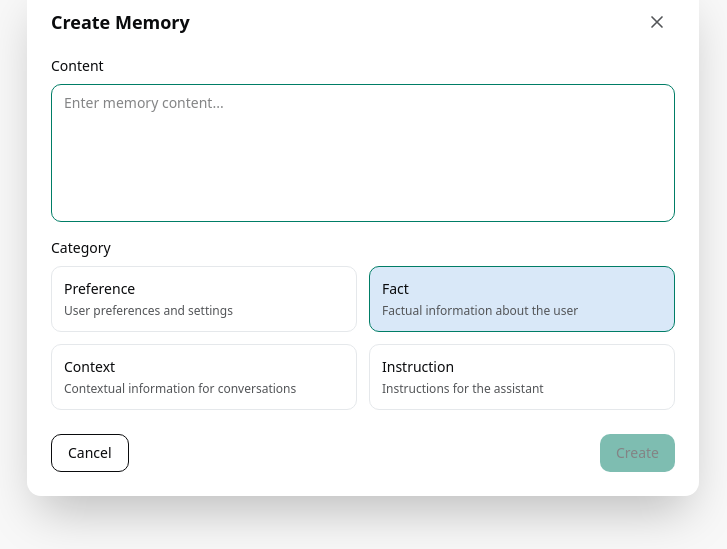
Test: MemoryEditor › Form Interactions › enables submit button when content is provided
Type "New content" into the text box with placeholder "Enter memory content..." at (363, 153), box [51,84,675,222]
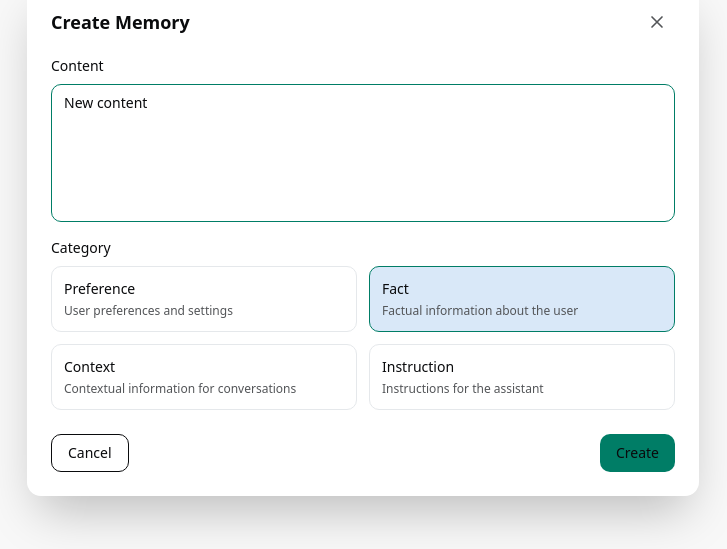
Expected: the button "Create" is enabled, [600,434,675,472]
